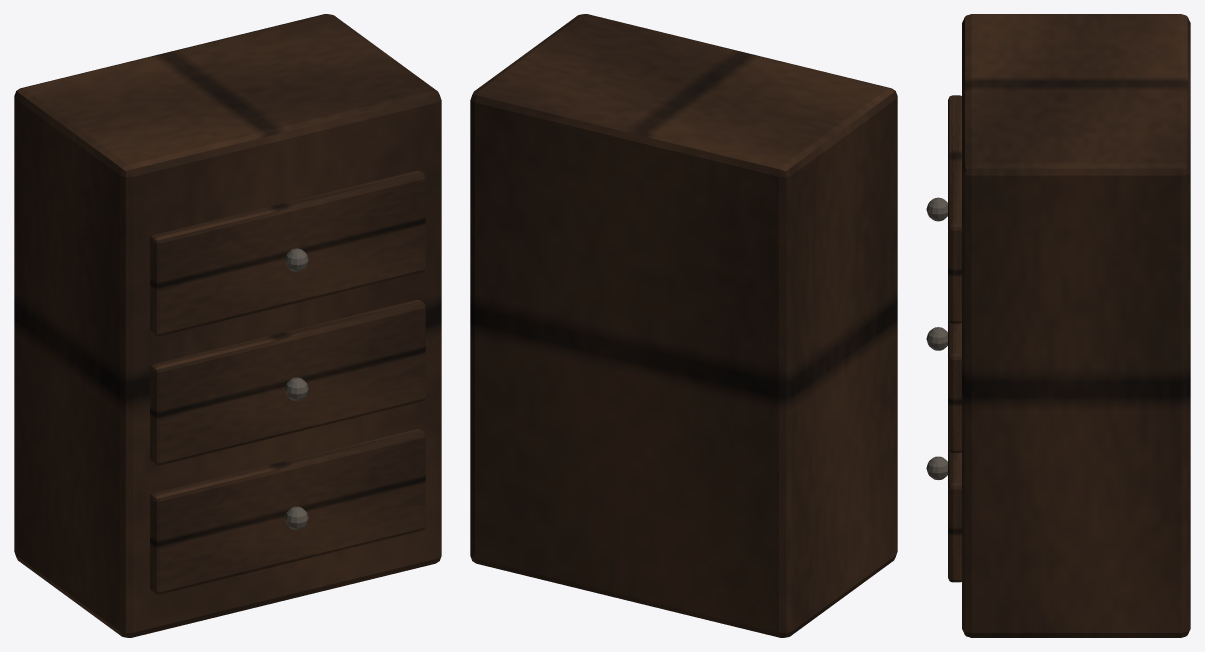
The model's file is narrow-dresser.glb.
3 views of the same model, side by side, from view 1: azimuth 30°, elevation 25°; view 2: azimuth 150°, elevation 25°; view 3: azimuth 270°, elevation 25° (orthographic).
Parts seen in each view (by area): view 1: SM_lonely_house_narrow_dresser_DarkWood, SM_lonely_house_narrow_dresser_OxidizedMetal; view 2: SM_lonely_house_narrow_dresser_DarkWood; view 3: SM_lonely_house_narrow_dresser_DarkWood, SM_lonely_house_narrow_dresser_OxidizedMetal.
Boxes of the visible parts, bbox=[...] form: SM_lonely_house_narrow_dresser_DarkWood: bbox=[14, 14, 441, 637]; SM_lonely_house_narrow_dresser_OxidizedMetal: bbox=[285, 248, 308, 530]; SM_lonely_house_narrow_dresser_DarkWood: bbox=[470, 14, 897, 637]; SM_lonely_house_narrow_dresser_DarkWood: bbox=[948, 14, 1190, 637]; SM_lonely_house_narrow_dresser_OxidizedMetal: bbox=[926, 197, 947, 480].
Bounding box in the file's own units: 0.78 × 1.1 × 0.555.
2 materials, 1 textured.
